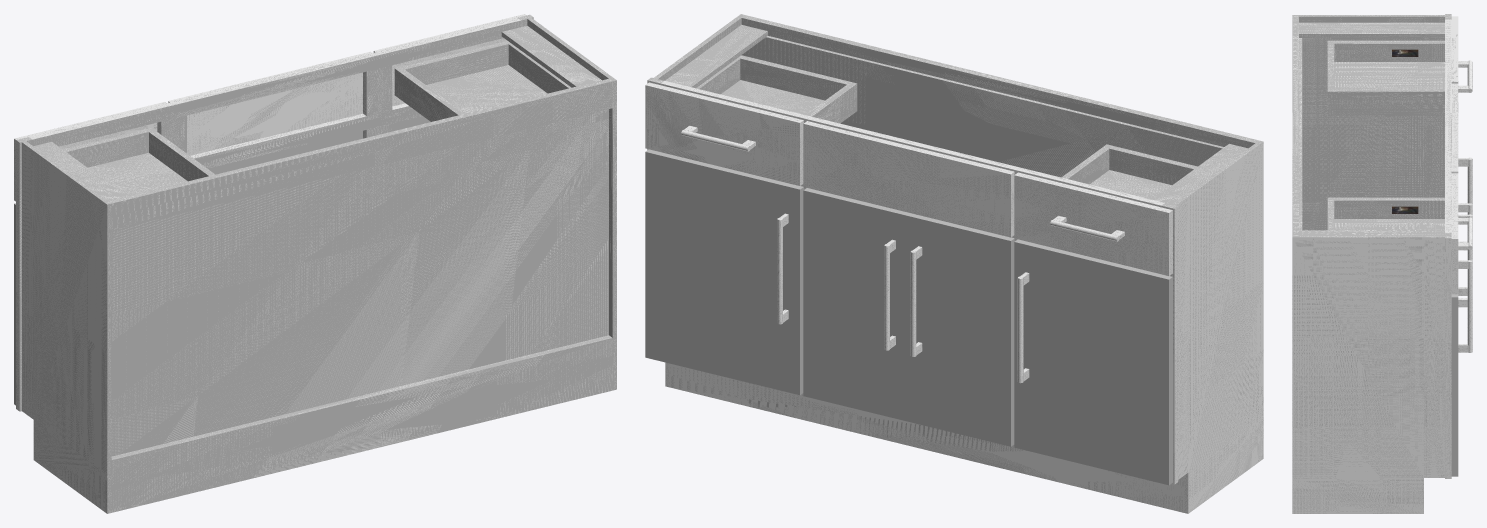
3 views of the same model, side by side, from view 1: azimuth 30°, elevation 25°; view 2: azimuth 150°, elevation 25°; view 3: azimuth 270°, elevation 25° (orthographic). The views are drawn at different scales.
Parts seen in each view (by area): view 1: mesh4_mesh4-geometry, mesh13_mesh13-geometry, mesh7_mesh7-geometry, mesh3_mesh3-geometry, mesh5_mesh5-geometry, mesh25_mesh25-geometry, mesh23_mesh23-geometry, mesh20_mesh20-geometry, mesh21_mesh21-geometry, mesh6_mesh6-geometry, mesh8_mesh8-geometry, mesh10_mesh10-geometry (+8 smaller); view 2: mesh30_mesh30-geometry, mesh29_mesh29-geometry, mesh25_mesh25-geometry, mesh4_mesh4-geometry, mesh7_mesh7-geometry, mesh14_mesh14-geometry, mesh3_mesh3-geometry, mesh21_mesh21-geometry, mesh26_mesh26-geometry, mesh8_mesh8-geometry, mesh5_mesh5-geometry, mesh6_mesh6-geometry (+6 smaller); view 3: mesh10_mesh10-geometry, mesh7_mesh7-geometry, mesh20_mesh20-geometry, mesh9_mesh9-geometry, mesh11_mesh11-geometry, mesh23_mesh23-geometry, mesh16_mesh16-geometry, mesh25_mesh25-geometry, mesh6_mesh6-geometry, mesh2_mesh2-geometry, mesh3_mesh3-geometry, mesh5_mesh5-geometry (+8 smaller).
Part boxes in pixels (x1=…): mesh4_mesh4-geometry: x1=111, y1=109, x2=608, y2=456; mesh13_mesh13-geometry: x1=111, y1=335, x2=612, y2=512; mesh7_mesh7-geometry: x1=33, y1=150, x2=111, y2=473; mesh3_mesh3-geometry: x1=108, y1=78, x2=612, y2=230; mesh5_mesh5-geometry: x1=29, y1=18, x2=520, y2=168; mesh25_mesh25-geometry: x1=14, y1=14, x2=526, y2=201; mesh23_mesh23-geometry: x1=88, y1=65, x2=547, y2=196; mesh20_mesh20-geometry: x1=145, y1=41, x2=571, y2=181; mesh21_mesh21-geometry: x1=63, y1=41, x2=508, y2=167; mesh6_mesh6-geometry: x1=22, y1=141, x2=37, y2=419; mesh8_mesh8-geometry: x1=33, y1=420, x2=111, y2=513; mesh10_mesh10-geometry: x1=539, y1=26, x2=616, y2=349; mesh30_mesh30-geometry: x1=907, y1=213, x2=1172, y2=485; mesh29_mesh29-geometry: x1=645, y1=149, x2=910, y2=421; mesh25_mesh25-geometry: x1=645, y1=82, x2=1172, y2=275; mesh4_mesh4-geometry: x1=741, y1=36, x2=1223, y2=177; mesh7_mesh7-geometry: x1=1184, y1=140, x2=1263, y2=472; mesh14_mesh14-geometry: x1=670, y1=363, x2=1183, y2=512; mesh3_mesh3-geometry: x1=741, y1=15, x2=1258, y2=148; mesh21_mesh21-geometry: x1=740, y1=56, x2=1197, y2=185; mesh26_mesh26-geometry: x1=681, y1=130, x2=1119, y2=383; mesh8_mesh8-geometry: x1=1184, y1=417, x2=1263, y2=513; mesh5_mesh5-geometry: x1=660, y1=80, x2=1164, y2=445; mesh6_mesh6-geometry: x1=1172, y1=196, x2=1188, y2=479; mesh10_mesh10-geometry: x1=1292, y1=235, x2=1423, y2=477; mesh7_mesh7-geometry: x1=1292, y1=15, x2=1423, y2=230; mesh20_mesh20-geometry: x1=1327, y1=40, x2=1444, y2=218; mesh9_mesh9-geometry: x1=1424, y1=235, x2=1444, y2=477; mesh11_mesh11-geometry: x1=1292, y1=478, x2=1423, y2=513; mesh23_mesh23-geometry: x1=1334, y1=62, x2=1444, y2=230; mesh16_mesh16-geometry: x1=1299, y1=22, x2=1444, y2=37; mesh25_mesh25-geometry: x1=1451, y1=16, x2=1458, y2=294; mesh6_mesh6-geometry: x1=1424, y1=15, x2=1444, y2=197; mesh2_mesh2-geometry: x1=1445, y1=14, x2=1451, y2=478; mesh3_mesh3-geometry: x1=1292, y1=16, x2=1298, y2=235; mesh5_mesh5-geometry: x1=1445, y1=19, x2=1451, y2=232.
Bounding box in the file's own units: 0.8316 × 0.4782 × 0.2824.
